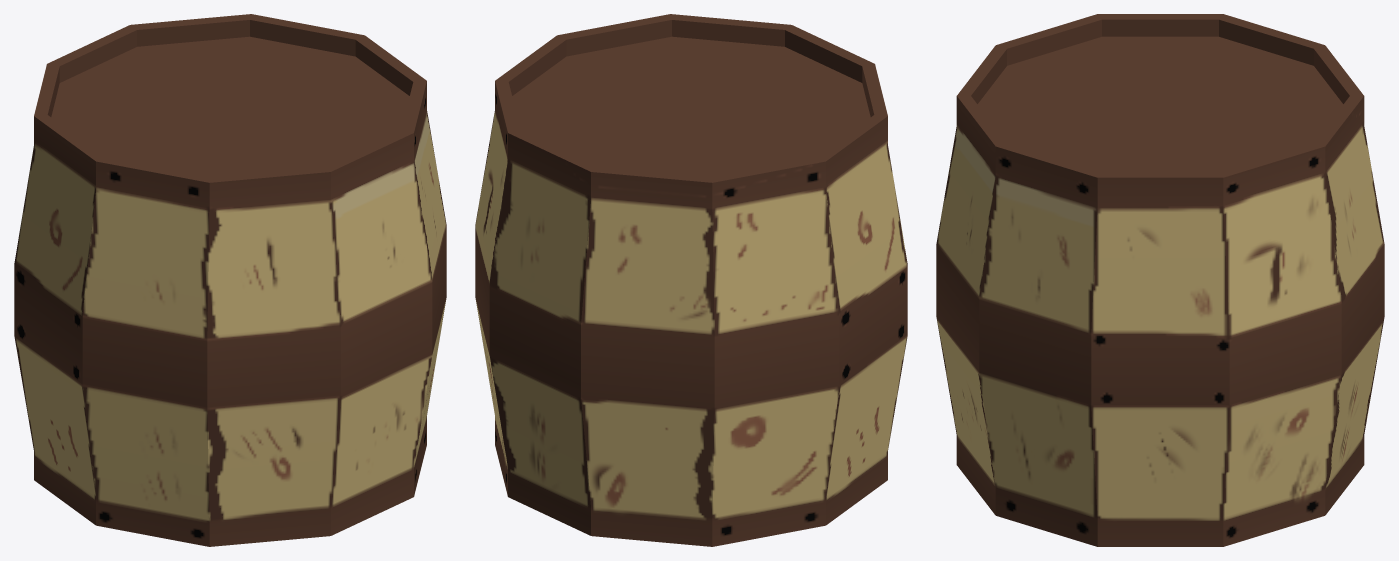
File: бочка 1.fbx
3 views of the same model, side by side, from view 1: azimuth 30°, elevation 25°; view 2: azimuth 150°, elevation 25°; view 3: azimuth 270°, elevation 25° (orthographic).
Parts seen in each view (by area): view 1: Цилиндр; view 2: Цилиндр; view 3: Цилиндр.
Boxes of the visible parts, bbox=[...] form: Цилиндр: bbox=[14, 14, 446, 546]; Цилиндр: bbox=[475, 14, 907, 546]; Цилиндр: bbox=[936, 14, 1384, 546].
Bounding box in the file's own units: 2.09 × 2 × 2.2.
